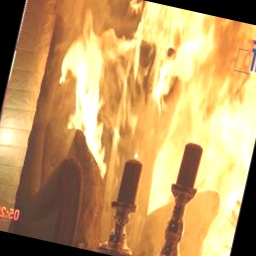fire: (25, 0, 256, 256)
